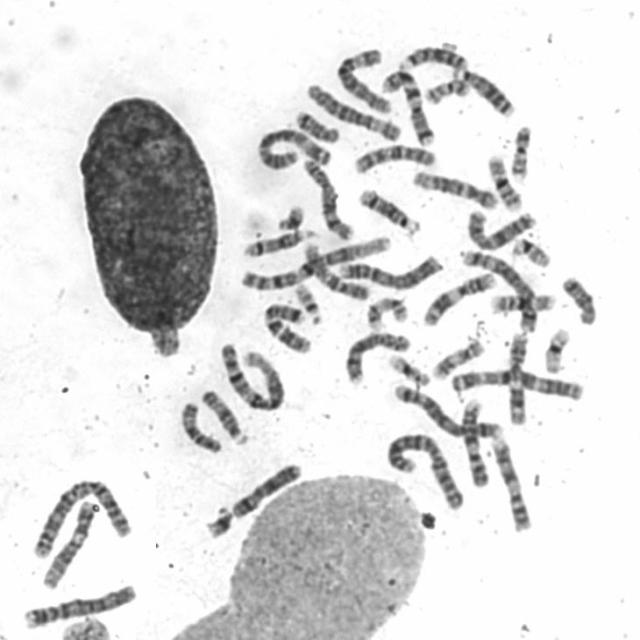A1: (237, 231, 392, 294), (216, 339, 286, 412)
A2: (27, 474, 134, 560), (382, 429, 466, 512)
A3: (445, 363, 586, 403), (253, 125, 333, 172)
B4: (18, 578, 138, 630), (334, 251, 445, 290)
B5: (459, 246, 540, 336), (390, 380, 504, 440)
C10: (300, 238, 372, 303), (352, 140, 438, 174)
C11: (418, 270, 497, 328), (506, 331, 531, 427)
C12: (38, 499, 97, 590), (409, 166, 499, 210)
C6: (304, 80, 402, 142), (332, 44, 394, 114)
C7: (377, 65, 435, 148), (260, 299, 313, 355)
C8: (300, 154, 356, 243), (342, 328, 412, 385)
C9: (487, 433, 533, 533), (458, 396, 489, 488)
D13: (451, 65, 516, 119), (397, 42, 468, 73)
D14: (354, 184, 422, 236), (240, 226, 318, 258)
D15: (198, 386, 250, 446), (178, 398, 224, 455)
E16: (485, 151, 524, 212), (487, 289, 557, 315)
E17: (428, 336, 486, 380), (364, 294, 409, 332)
E18: (559, 272, 599, 327), (291, 107, 341, 145)
F19: (540, 324, 573, 374), (385, 351, 430, 387)
F20: (422, 75, 471, 106), (508, 122, 532, 180)
G21: (202, 501, 234, 540), (274, 202, 306, 232)
G22: (292, 279, 324, 324), (508, 236, 552, 268)
X: (228, 459, 302, 520), (464, 206, 537, 251)
